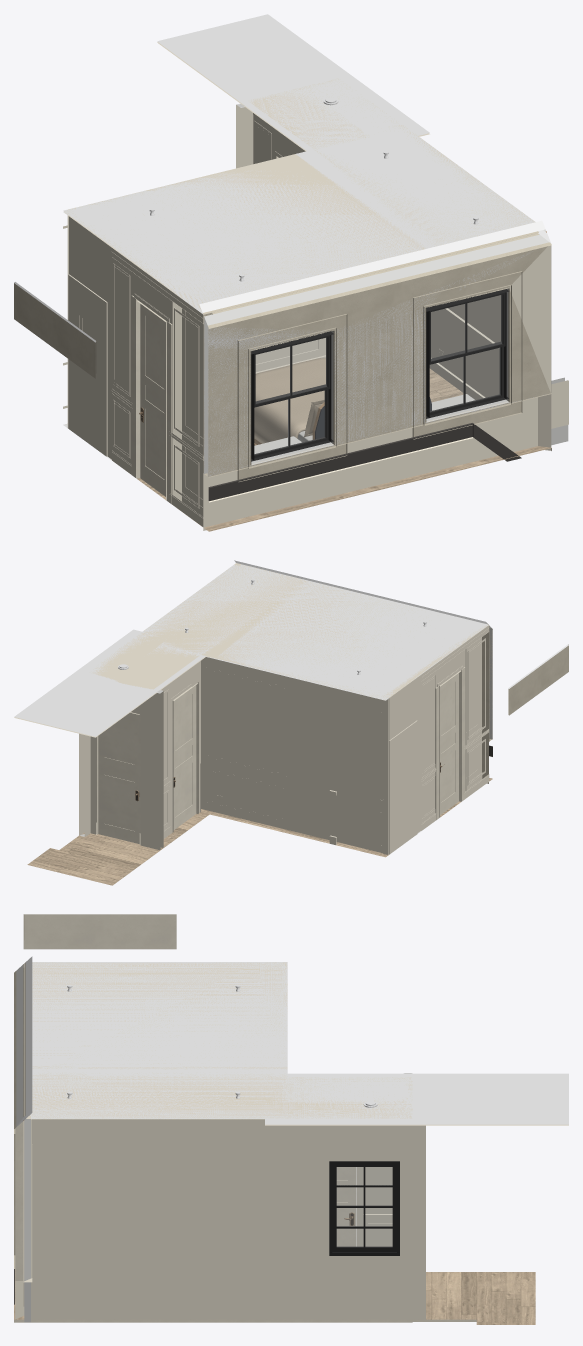
Rendered from blue-bedroom-d891d6cbff36.glb.
The picture shows the model from 3 angles, top to bottom: view 1: azimuth 30°, elevation 25°; view 2: azimuth 150°, elevation 25°; view 3: azimuth 270°, elevation 25°; orthographic projection. The views are drawn at different scales.
Visible parts, largest first — view 1: blue-bedroom-9d91b47435c6fb33, blue-bedroom-bddaf205afbd60c0, blue-bedroom-e8793759323e04f0, blue-bedroom-df3e1f21720b0c39, blue-bedroom-2f7d8eff34a2c180, blue-bedroom-look-9d91b47435c6fb33, blue-bedroom-ed5fdcd3ee9c0dd5, blue-bedroom-3c3de67e8dd93323, blue-bedroom-649b3532e9781727, blue-bedroom-64753ebcb3824a84, blue-bedroom-ead09a0b3f9e3bd9, blue-bedroom-746250f96522f643 (+18 smaller); view 2: blue-bedroom-6e269356ae8bfd70, blue-bedroom-9d91b47435c6fb33, blue-bedroom-e8793759323e04f0, blue-bedroom-look-9d91b47435c6fb33, blue-bedroom-ed5fdcd3ee9c0dd5, blue-bedroom-dcc0092055abeaa8, blue-bedroom-look-eb02897c2e79e2b1, blue-bedroom-look-2575515a05775d9e, blue-bedroom-ead09a0b3f9e3bd9, blue-bedroom-c33a54857fb1d4db, blue-bedroom-3e649b0d114ae387, blue-bedroom-bf159a19de53e60e (+11 smaller); view 3: blue-bedroom-746250f96522f643, blue-bedroom-9d91b47435c6fb33, blue-bedroom-e8793759323e04f0, blue-bedroom-look-9d91b47435c6fb33, blue-bedroom-5035c6783c6505b3, blue-bedroom-look-2575515a05775d9e, blue-bedroom-look-3a4d9d62ecd7be1c, blue-bedroom-look-746250f96522f643, blue-bedroom-95684fa6df9df9bf, blue-bedroom-2575515a05775d9e, blue-bedroom-c33a54857fb1d4db, blue-bedroom-0a6e1f8a567f4490 (+2 smaller).
Boxes of the visible parts, box(x1,y1,x2,y2) form: blue-bedroom-9d91b47435c6fb33: box(63, 78, 538, 314); blue-bedroom-bddaf205afbd60c0: box(207, 242, 550, 476); blue-bedroom-e8793759323e04f0: box(64, 78, 545, 312); blue-bedroom-df3e1f21720b0c39: box(208, 243, 551, 476); blue-bedroom-2f7d8eff34a2c180: box(203, 393, 551, 530); blue-bedroom-look-9d91b47435c6fb33: box(157, 14, 429, 151); blue-bedroom-ed5fdcd3ee9c0dd5: box(67, 215, 181, 500); blue-bedroom-3c3de67e8dd93323: box(251, 330, 333, 461); blue-bedroom-649b3532e9781727: box(426, 289, 509, 418); blue-bedroom-64753ebcb3824a84: box(204, 234, 548, 476); blue-bedroom-ead09a0b3f9e3bd9: box(68, 274, 107, 456); blue-bedroom-746250f96522f643: box(431, 295, 500, 397); blue-bedroom-6e269356ae8bfd70: box(201, 656, 389, 854); blue-bedroom-9d91b47435c6fb33: box(84, 564, 488, 700); blue-bedroom-e8793759323e04f0: box(92, 560, 488, 699); blue-bedroom-look-9d91b47435c6fb33: box(14, 629, 205, 737); blue-bedroom-ed5fdcd3ee9c0dd5: box(382, 641, 465, 854); blue-bedroom-dcc0092055abeaa8: box(98, 712, 139, 843); blue-bedroom-look-eb02897c2e79e2b1: box(90, 690, 163, 850); blue-bedroom-look-2575515a05775d9e: box(27, 812, 209, 885); blue-bedroom-ead09a0b3f9e3bd9: box(389, 720, 417, 854); blue-bedroom-c33a54857fb1d4db: box(173, 685, 196, 829); blue-bedroom-3e649b0d114ae387: box(465, 625, 488, 790); blue-bedroom-bf159a19de53e60e: box(440, 673, 458, 814); blue-bedroom-746250f96522f643: box(32, 1119, 412, 1319); blue-bedroom-9d91b47435c6fb33: box(24, 962, 412, 1119); blue-bedroom-e8793759323e04f0: box(25, 956, 412, 1118); blue-bedroom-look-9d91b47435c6fb33: box(265, 1073, 568, 1125); blue-bedroom-5035c6783c6505b3: box(329, 1161, 399, 1255); blue-bedroom-look-2575515a05775d9e: box(412, 1272, 535, 1324); blue-bedroom-look-3a4d9d62ecd7be1c: box(23, 914, 176, 949); blue-bedroom-look-746250f96522f643: box(412, 1125, 425, 1319); blue-bedroom-95684fa6df9df9bf: box(362, 1167, 392, 1246); blue-bedroom-2575515a05775d9e: box(14, 1269, 412, 1322); blue-bedroom-c33a54857fb1d4db: box(336, 1167, 356, 1246); blue-bedroom-0a6e1f8a567f4490: box(15, 1121, 22, 1281).
Bounding box in the file's own units: 6.73 × 3.04 × 7.3.
37 materials, 9 textured.
